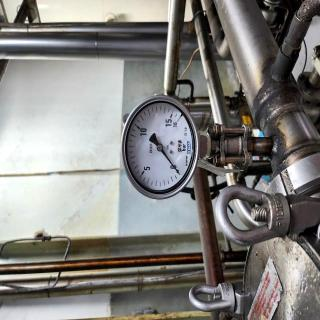gauge: (120, 95, 198, 201), (171, 114, 187, 129), (170, 162, 182, 180), (154, 142, 165, 153), (176, 171, 182, 177)
